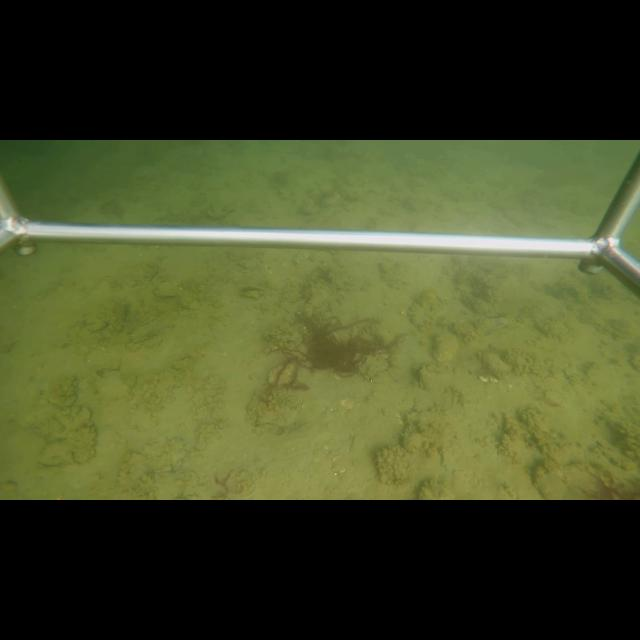Oyster-Closed: (477, 351, 513, 378), (415, 367, 439, 395)
